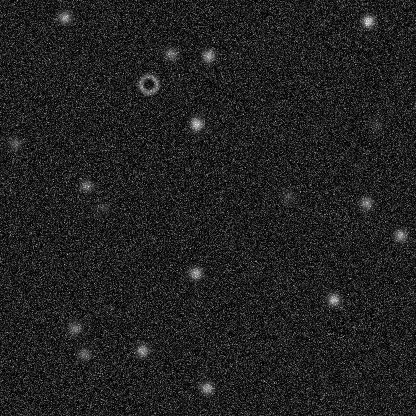Ring: (136, 72, 160, 96)
Spot: (198, 380, 214, 396), (7, 135, 23, 151), (78, 177, 94, 193), (279, 188, 295, 204), (56, 9, 72, 25), (188, 115, 204, 131), (358, 194, 374, 210), (392, 227, 408, 243), (134, 342, 150, 358), (200, 47, 216, 63), (325, 291, 341, 307), (66, 320, 82, 336), (76, 345, 92, 361), (94, 199, 110, 215), (360, 13, 376, 29), (162, 45, 178, 61), (187, 265, 203, 281), (368, 116, 384, 132)
